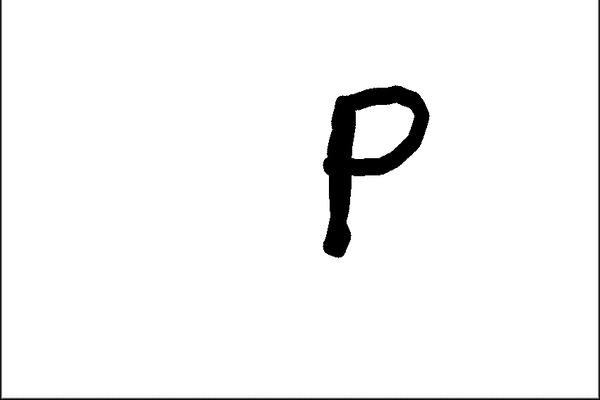P: (309, 82, 441, 260)
